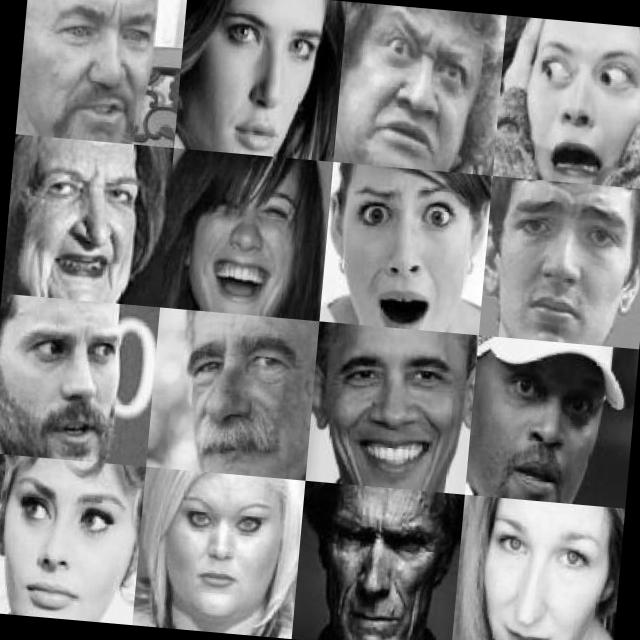angry: (482, 350, 618, 498), (21, 0, 159, 143), (352, 16, 487, 152), (0, 309, 132, 445), (148, 478, 278, 616), (309, 501, 434, 640)
fear: (334, 168, 466, 326), (503, 29, 640, 169)
happy: (164, 166, 312, 312), (328, 333, 459, 479), (17, 154, 146, 295)
neutral: (183, 4, 324, 161), (162, 322, 300, 470), (478, 499, 607, 640), (0, 474, 120, 621)
sad: (497, 192, 633, 336)
